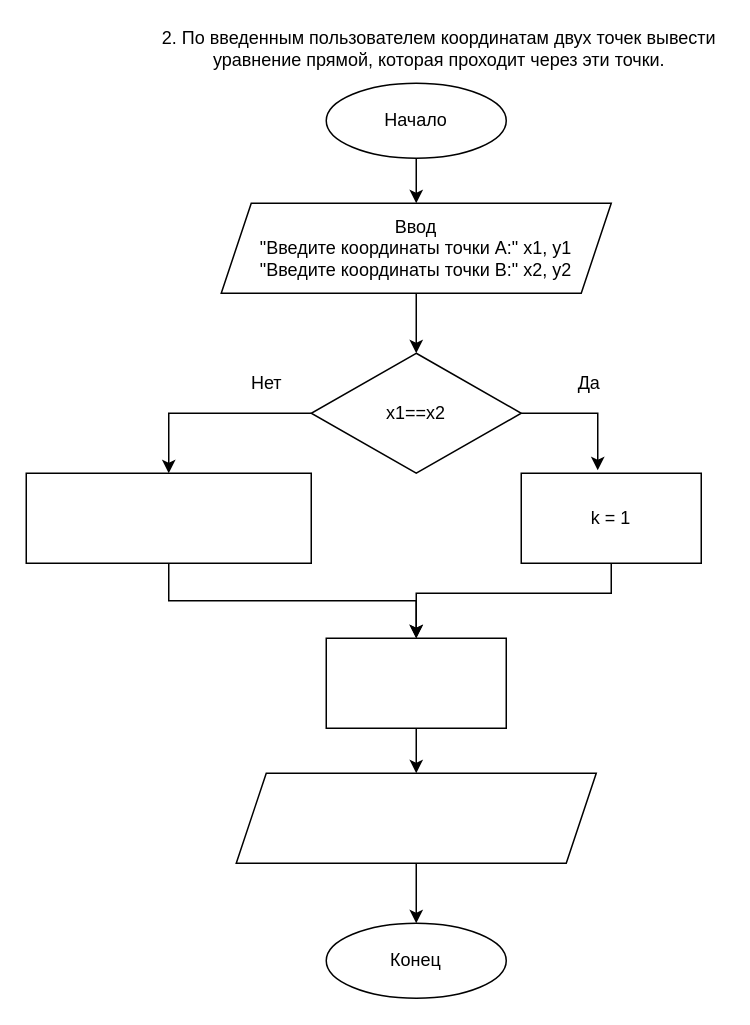
Image size: 750x1025. Some labels were removed from this diagram. Here are the shapes that lost their labels. From the top down, the centre of each, then its label:
[168,517]: k = ( y1 - y2 )/( x1 - x2 )
[415,682]: b = y2 - k * x2
[415,817]: Вывод "Уравнение прямой:" y = k*x + b
